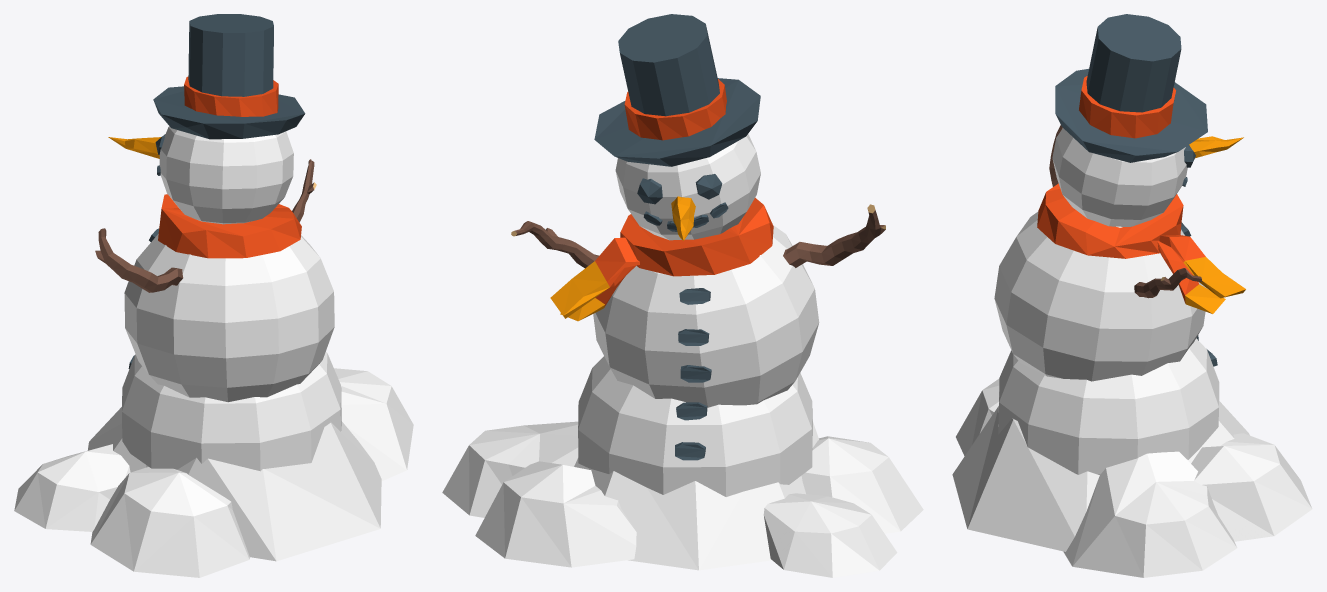
The model's file is christmasSnowman.dae.
The picture shows the model from 3 angles, left to right: view 1: azimuth 30°, elevation 25°; view 2: azimuth 150°, elevation 25°; view 3: azimuth 270°, elevation 25°; orthographic projection. The views are drawn at different scales.
Visible parts, largest first — view 1: snowman; view 2: snowman; view 3: snowman.
Part boxes in pixels (x1,y1,x2,y2): snowman: [14, 14, 413, 577]; snowman: [442, 14, 923, 577]; snowman: [952, 14, 1312, 577].
Size of the model in its own units: 1.07 by 0.8406 by 1.21.
